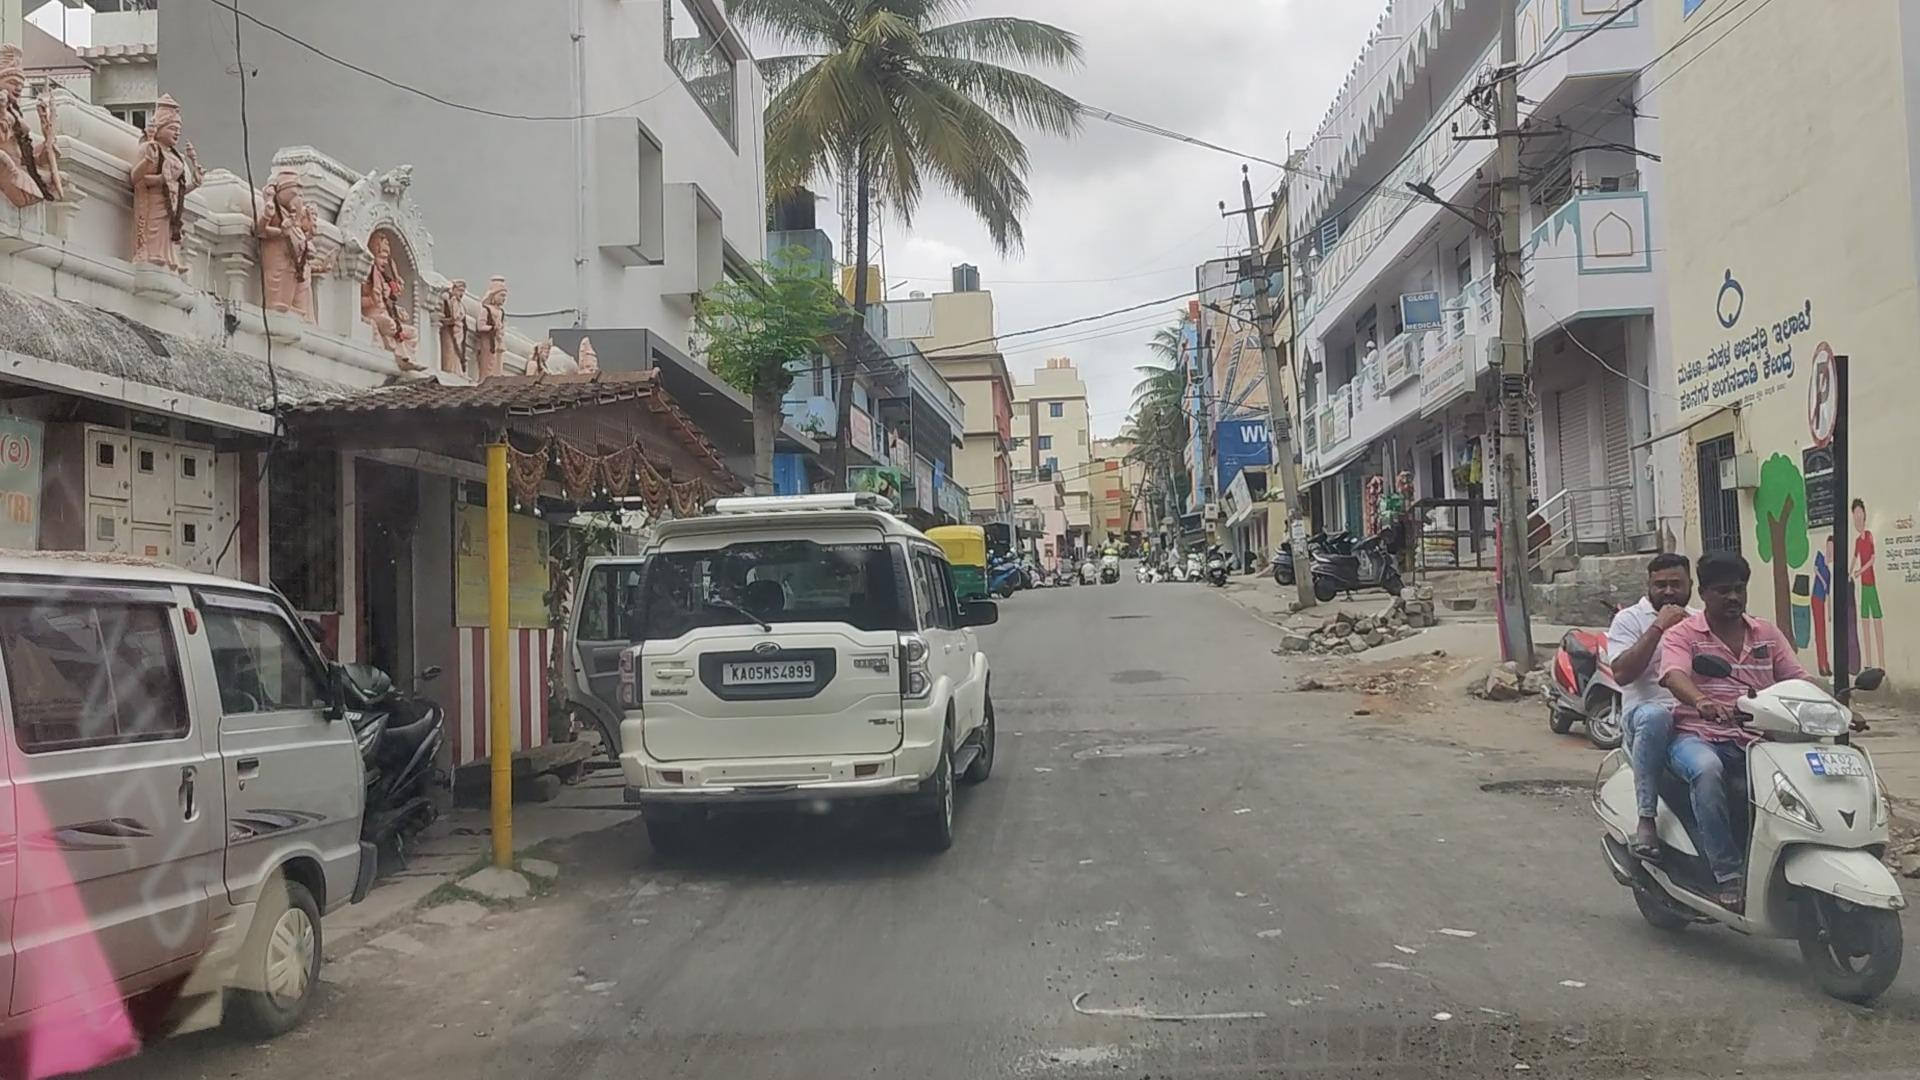LMV: (1622, 555, 1890, 1011)
RoadDamages: (1015, 973, 1254, 1080), (1075, 725, 1196, 775)
